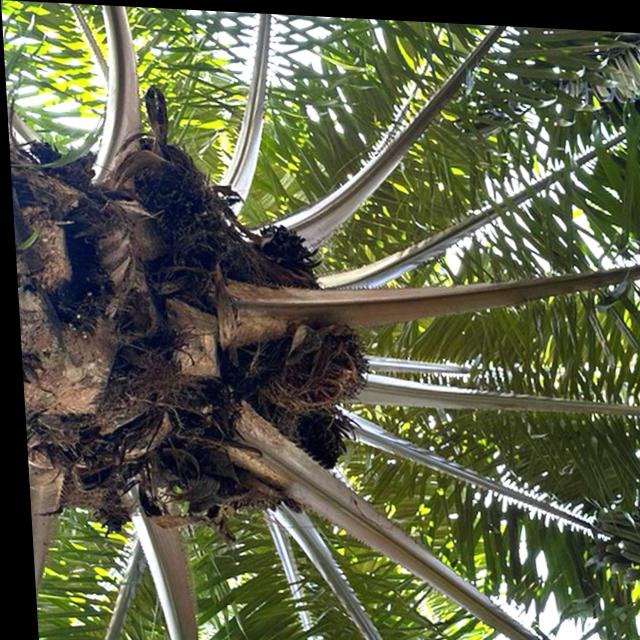ripe: (247, 306, 379, 413)
